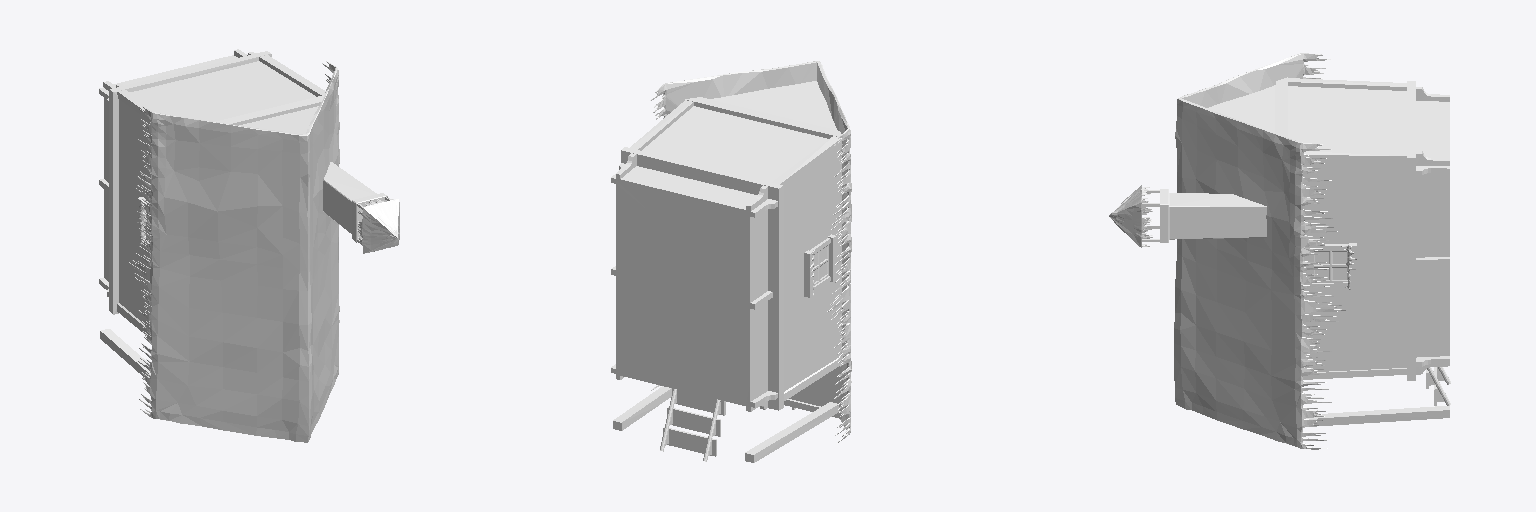
File: Cabin.obj
3 renders of one model, left to right at view 1: azimuth 30°, elevation 25°; view 2: azimuth 150°, elevation 25°; view 3: azimuth 270°, elevation 25°, orthographic.
Visible parts, largest first — view 1: Object.1; view 2: Object.1, Object.2; view 3: Object.1, Object.2.
Part boxes in pixels (left/top/right/bottom): Object.1: left=99, top=49, right=399, bottom=442; Object.1: left=611, top=61, right=851, bottom=462; Object.2: left=810, top=245, right=828, bottom=295; Object.1: left=1109, top=53, right=1450, bottom=449; Object.2: left=1312, top=245, right=1356, bottom=289.
Size of the model in its own units: 10 by 16.01 by 15.74.